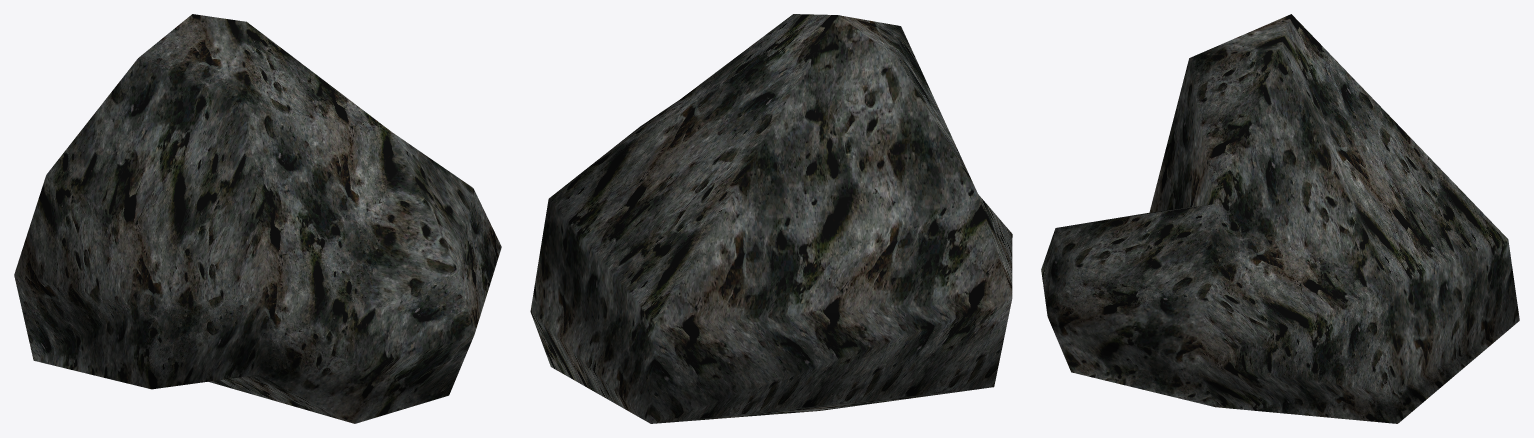
Rendered from rock_scorched_big_l2.fbx.
The picture shows the model from 3 angles, left to right: view 1: azimuth 30°, elevation 25°; view 2: azimuth 150°, elevation 25°; view 3: azimuth 270°, elevation 25°; orthographic projection. The views are drawn at different scales.
Parts seen in each view (by area): view 1: mesh_node; view 2: mesh_node; view 3: mesh_node.
Boxes of the visible parts, left/top/right/bottom form: mesh_node: left=14, top=14, right=501, bottom=423; mesh_node: left=530, top=14, right=1012, bottom=423; mesh_node: left=1041, top=14, right=1519, bottom=423.
Bounding box in the file's own units: 7.15 × 5.9 × 7.56.
1 material, 1 textured.
